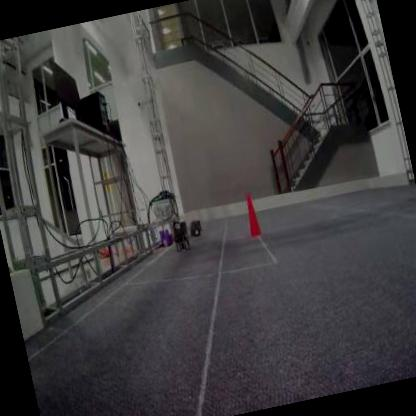cone: (243, 191, 262, 236)
